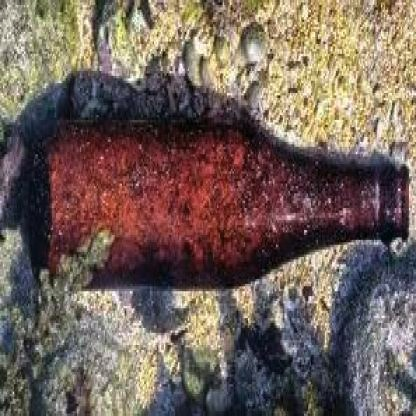gbottle: (25, 115, 409, 291)
